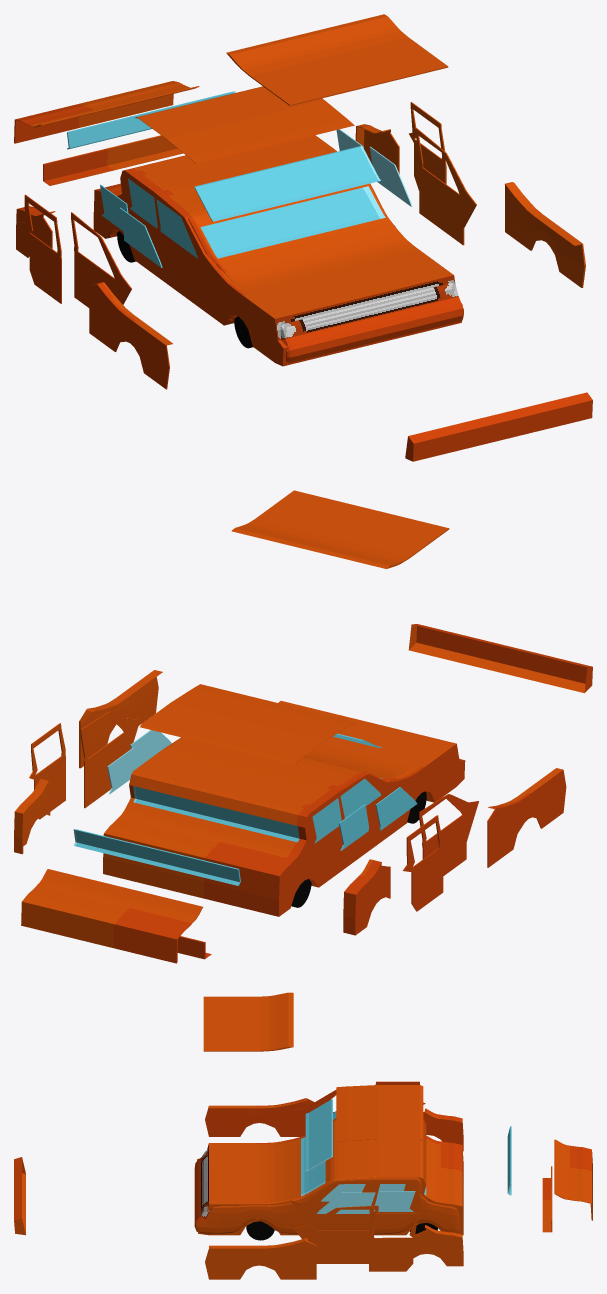
The model's file is car.fbx.
The picture shows the model from 3 angles, top to bottom: view 1: azimuth 30°, elevation 25°; view 2: azimuth 150°, elevation 25°; view 3: azimuth 270°, elevation 25°; orthographic projection. The views are drawn at different scales.
Parts seen in each view (by area): view 1: car exterior shell.001, car exterior shell, hood, roof, front wind sheild, front bumber, trunk hood, passanger side quarter panel, driver side quarter panel, rear bumper, front driver door, rear passanger door (+9 smaller); view 2: car exterior shell, trunk hood, roof, hood, car exterior shell.001, front bumber, passanger side quarter panel, rear wind shield, driver side quarter panel, front driver door, rear passanger quarter panel, passanger side door (+8 smaller); view 3: car exterior shell.001, car exterior shell, hood, roof, driver side quarter panel, passanger side quarter panel, front driver door, trunk hood, rear driver door, front wind sheild, rear driver quarter panel, rear passanger quarter panel (+5 smaller).
Boxes of the visible parts, x1,y1,x2,y2 form: car exterior shell.001: (110, 149, 463, 363); car exterior shell: (93, 135, 462, 366); hood: (226, 14, 448, 105); roof: (135, 86, 354, 163); front wind sheild: (194, 146, 380, 221); front bumber: (405, 392, 592, 461); trunk hood: (14, 81, 199, 143); passanger side quarter panel: (89, 282, 172, 389); driver side quarter panel: (504, 182, 585, 287); rear bumper: (43, 135, 183, 185); front driver door: (415, 128, 476, 245); rear passanger door: (21, 194, 61, 303); car exterior shell: (103, 701, 465, 916); trunk hood: (21, 869, 202, 963); roof: (140, 684, 355, 764); hood: (231, 490, 449, 568); car exterior shell.001: (140, 737, 459, 808); front bumber: (408, 624, 592, 693); passanger side quarter panel: (487, 768, 566, 867); rear wind shield: (73, 829, 240, 885); driver side quarter panel: (79, 670, 162, 768); front driver door: (80, 711, 140, 808); rear passanger quarter panel: (343, 859, 390, 935); passanger side door: (419, 794, 478, 875); car exterior shell.001: (194, 1119, 459, 1234); car exterior shell: (197, 1118, 463, 1235); hood: (203, 992, 293, 1051); roof: (336, 1085, 423, 1141); driver side quarter panel: (205, 1238, 316, 1279); passanger side quarter panel: (205, 1098, 314, 1136); front driver door: (294, 1205, 378, 1263); trunk hood: (554, 1139, 592, 1220); rear driver door: (369, 1213, 420, 1271); front wind sheild: (305, 1099, 332, 1171); rear driver quarter panel: (413, 1225, 463, 1266); rear passanger quarter panel: (423, 1108, 463, 1151).
Size of the model in its own units: 197 by 124 by 336.
